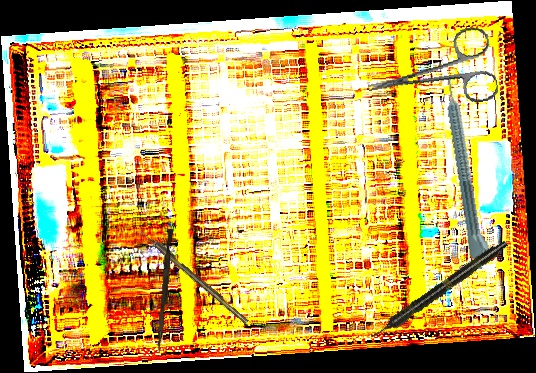Handpiece: (367, 237, 511, 343), (441, 74, 495, 271)
Hook Surgical: (137, 226, 250, 326)
Iris Scissors: (361, 24, 500, 123)
Pusher: (156, 228, 174, 354)
